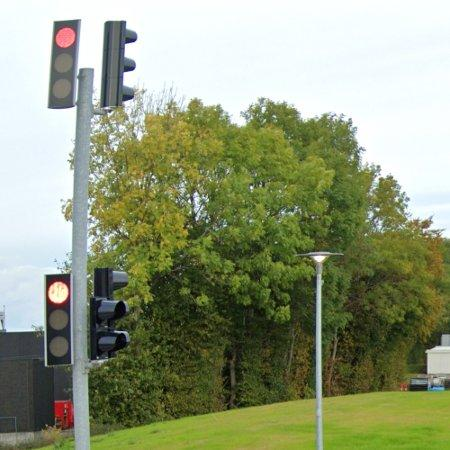traffic lights: (48, 310, 68, 330)
